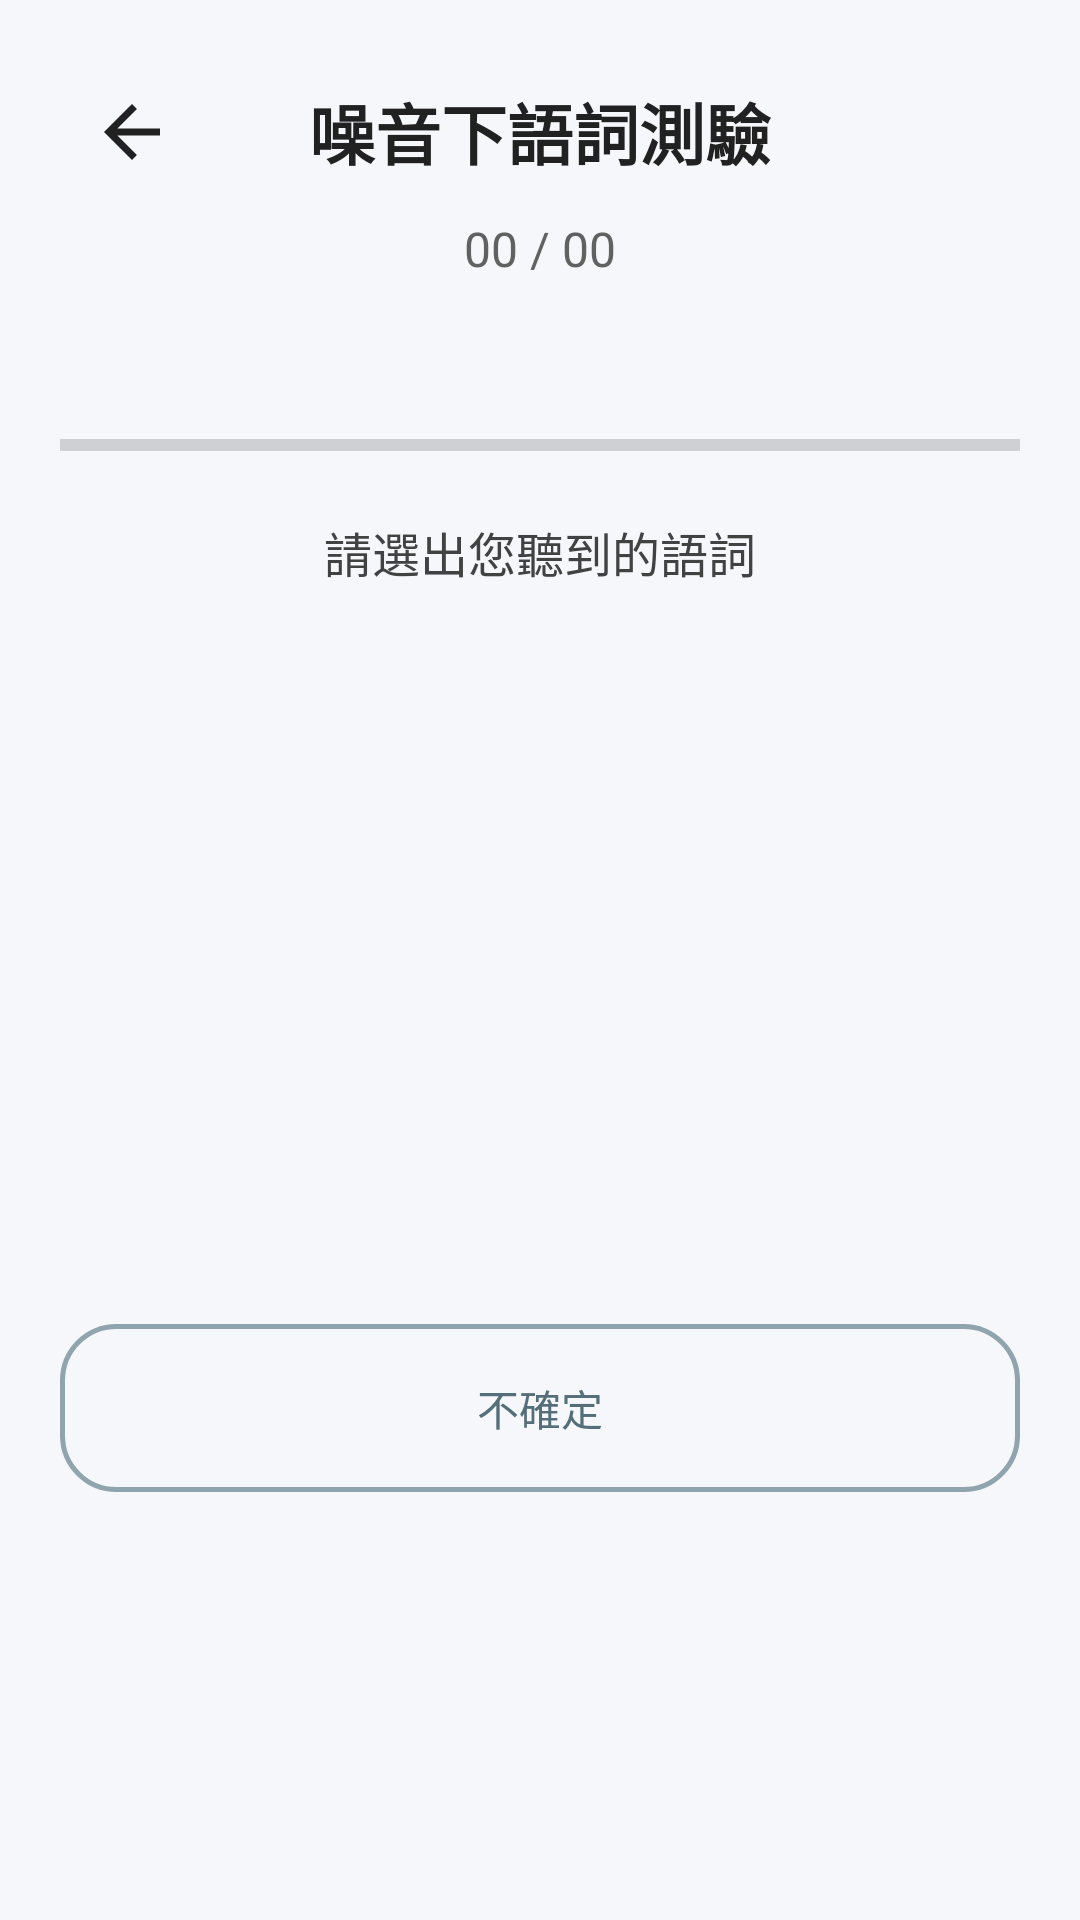

Named icons in this screenshot (1080x1920) and their bounding boxes, rect(x1, y1, x2, y2):
結束並返回: rect(104, 104, 160, 160)
